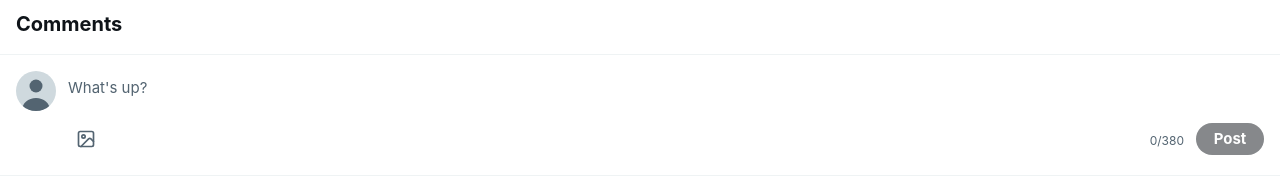
Test case: NewComment composer › enables the Post button once content is typed
Step 1. Type "Hello world" into the text box with placeholder "What's up?" → (666, 89), box [68, 75, 1264, 103]
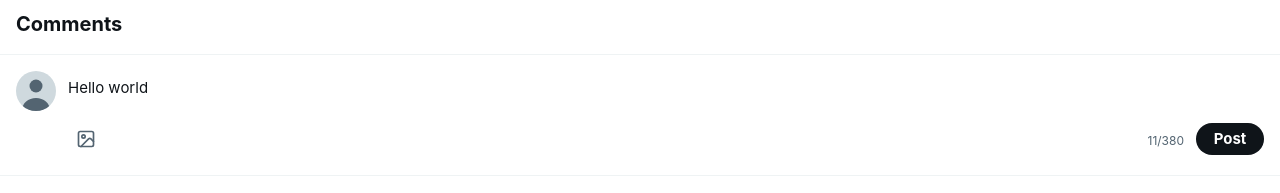
expect the button "Post" is enabled: met, box [1196, 123, 1264, 155]
